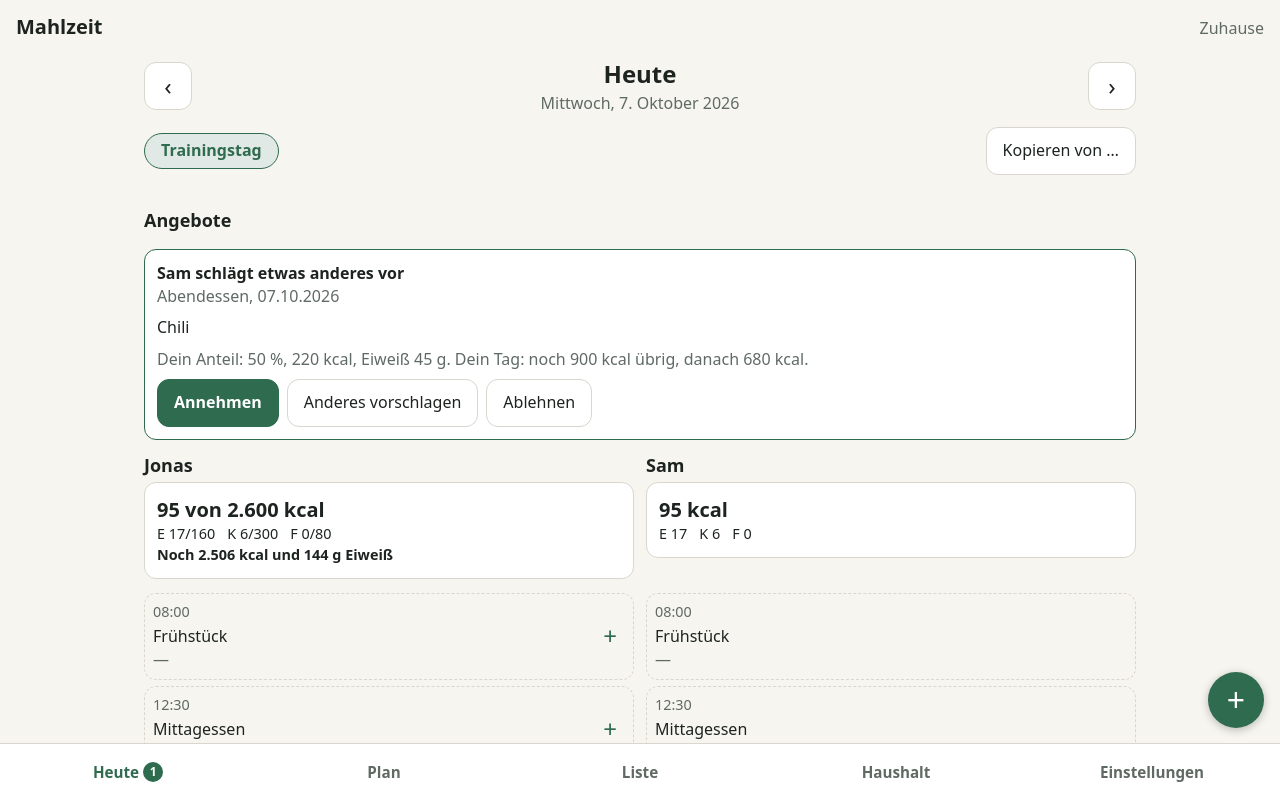
Test: offers on Today › shows a counter-offer as such, and an error when it is no longer open
Expected: the text "Sam schlägt etwas anderes vor" is shown, [157,262,404,284]
Click the button "Annehmen".
click(218, 403)  # box [157,379,279,427]
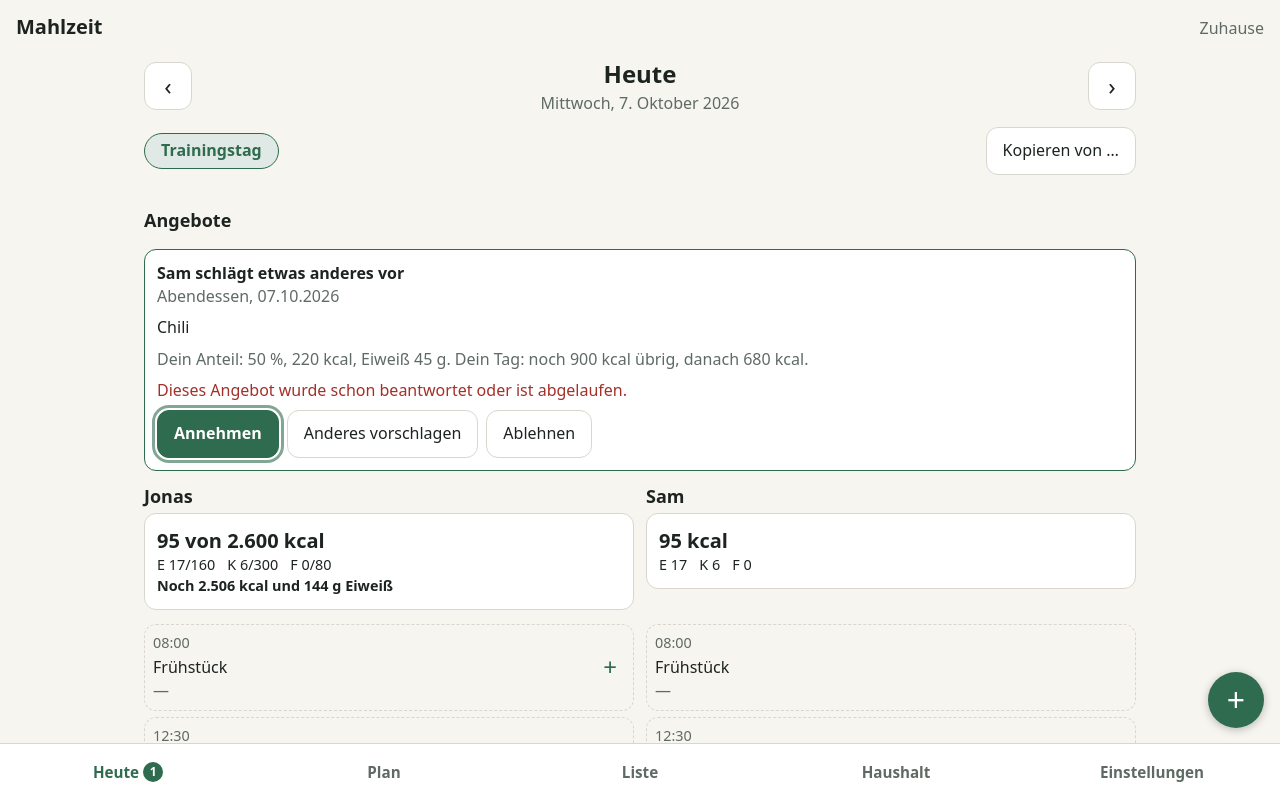
Expected: the text "Dieses Angebot wurde schon beantwortet oder ist abgelaufen." is shown, [157,379,627,401]
